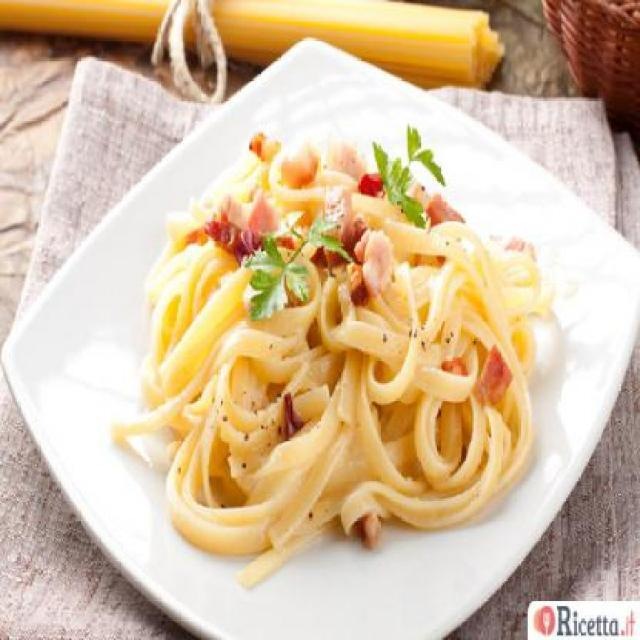Pasta with carbonara sauce: (106, 74, 608, 594)
